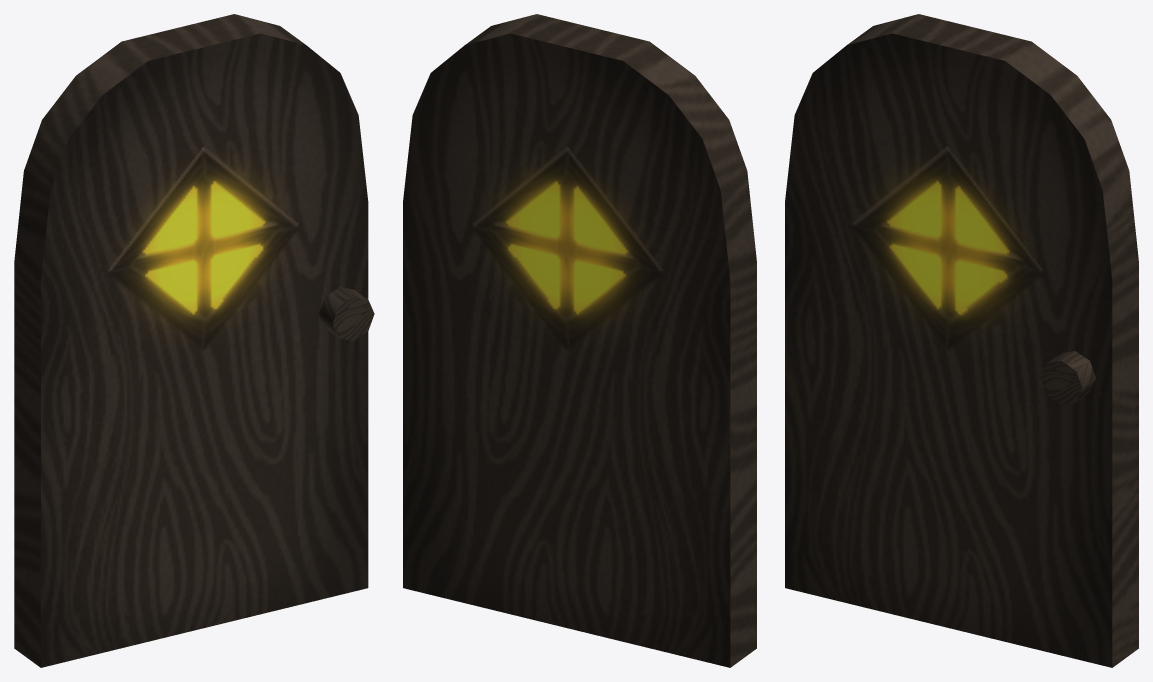
The model's file is door2.fbx.
3 renders of one model, left to right at view 1: azimuth 30°, elevation 25°; view 2: azimuth 150°, elevation 25°; view 3: azimuth 330°, elevation 25°, orthographic.
Parts seen in each view (by area): view 1: door_object; view 2: door_object; view 3: door_object.
Boxes of the visible parts, x1,y1,x2,y2 form: door_object: (14,14,374,667); door_object: (403,14,756,667); door_object: (785,14,1138,667).
Size of the model in its own units: 88.44 by 150 by 20.97.
Materials: 1 (1 with a texture image).
